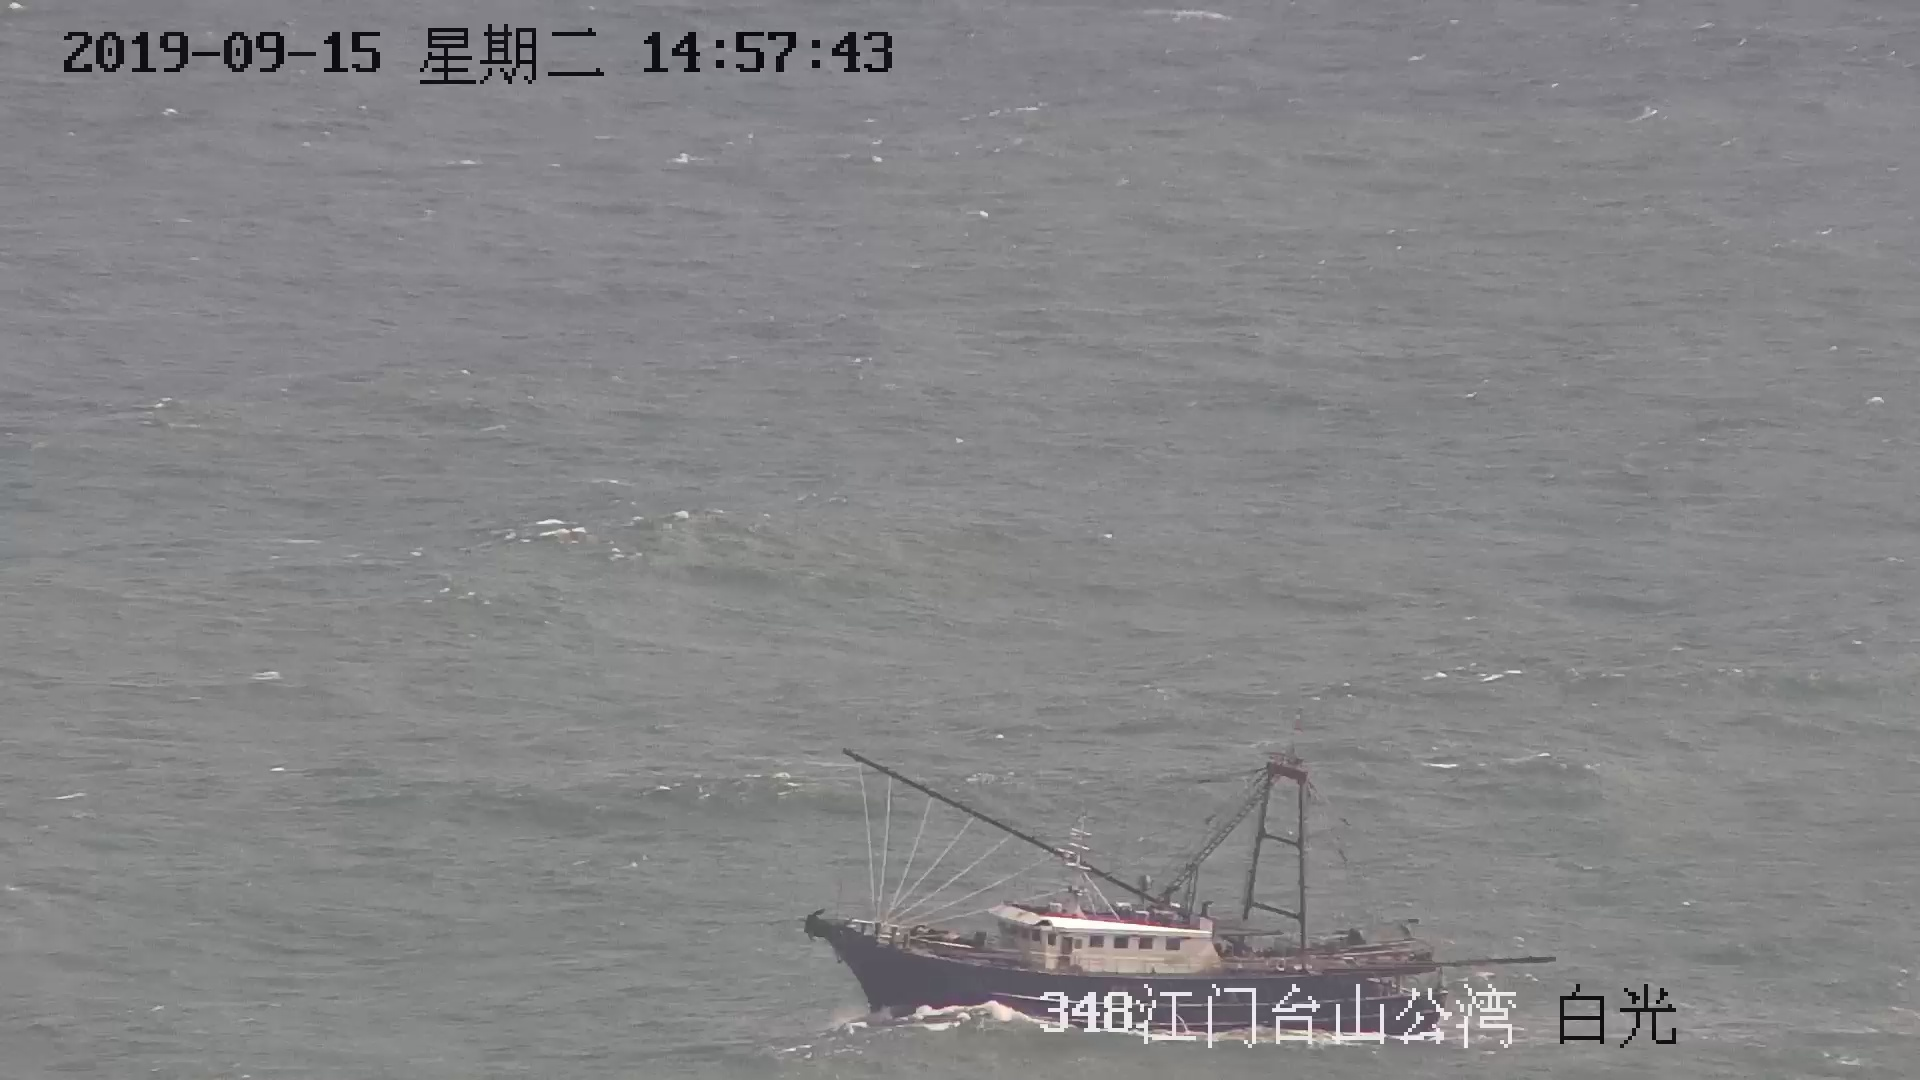ship: (804, 692, 1549, 1033)
